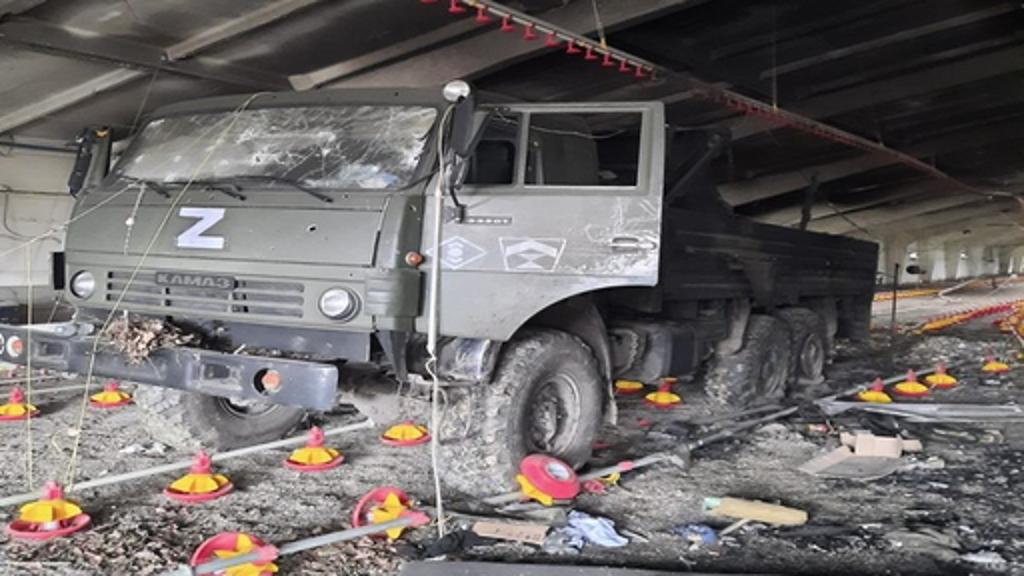TRUCK: (42, 74, 876, 480)
